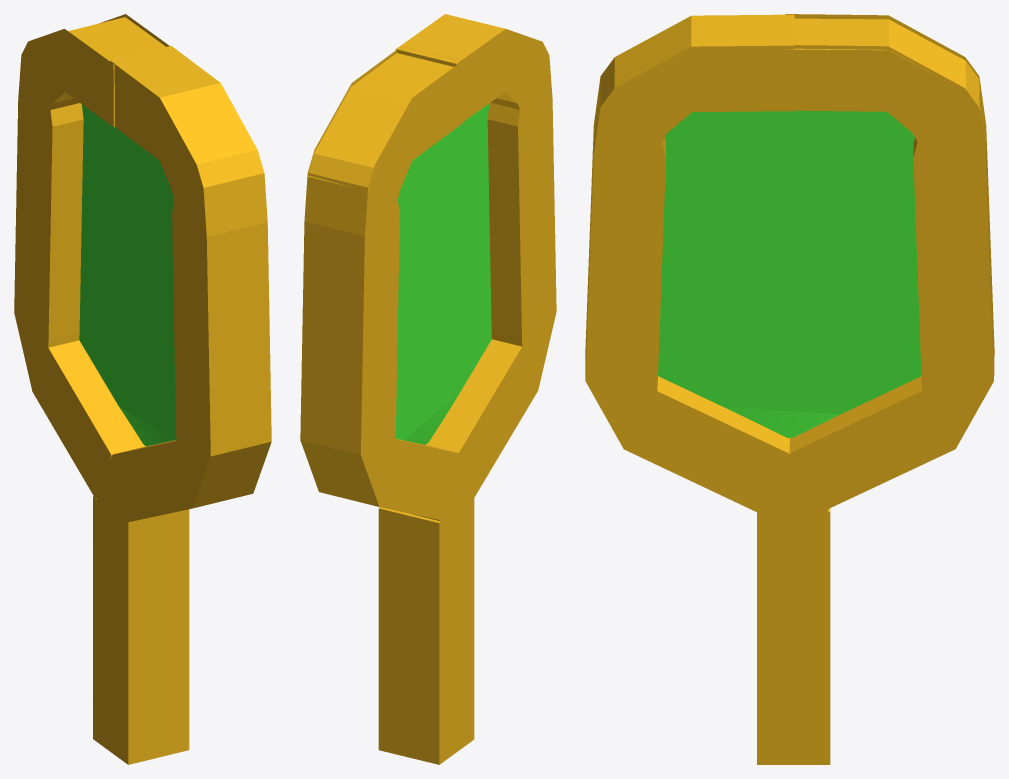
Rendered from tenis_racket.dae.
3 views of the same model, side by side, from view 1: azimuth 30°, elevation 25°; view 2: azimuth 150°, elevation 25°; view 3: azimuth 270°, elevation 25° (orthographic). The views are drawn at different scales.
Parts seen in each view (by area): view 1: Cube, Plane; view 2: Cube, Plane; view 3: Cube, Plane.
Boxes of the visible parts, bbox=[...] form: Cube: bbox=[14, 14, 271, 764]; Plane: bbox=[79, 104, 176, 446]; Cube: bbox=[300, 14, 556, 764]; Plane: bbox=[395, 103, 491, 444]; Cube: bbox=[585, 14, 994, 764]; Plane: bbox=[658, 110, 921, 437].
Size of the model in its own units: 2.06 by 11.17 by 21.67.
2 materials, 2 textured.
